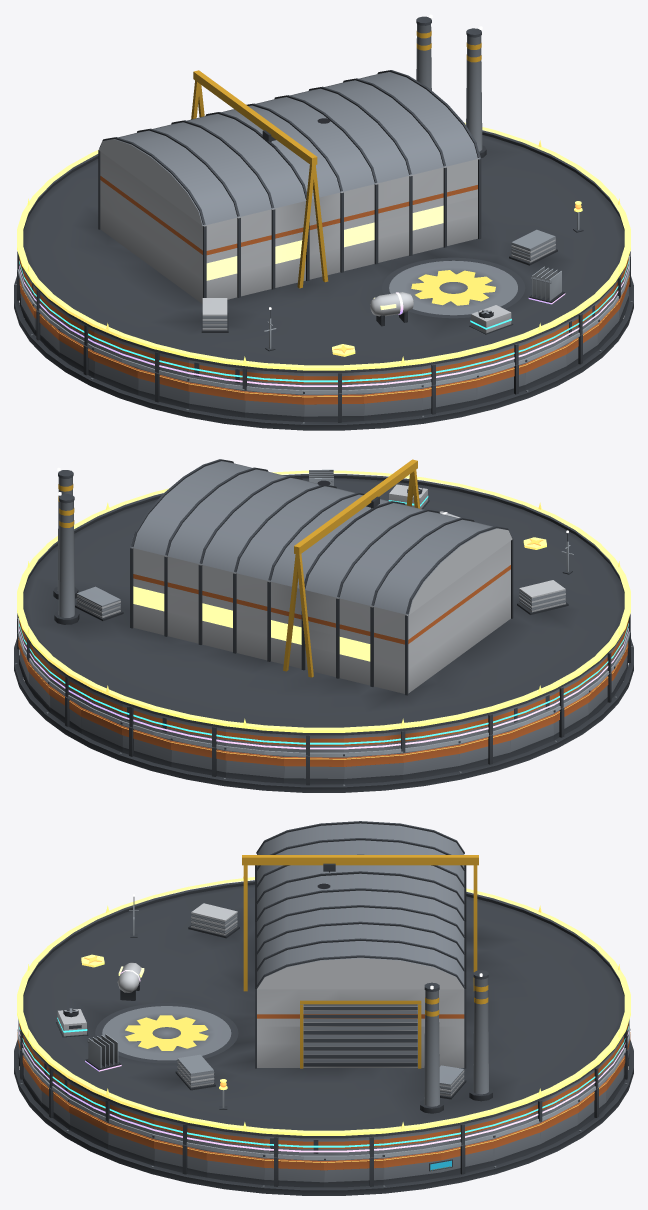
File: fabricator_xl.glb
3 renders of one model, top to bottom at view 1: azimuth 30°, elevation 25°; view 2: azimuth 150°, elevation 25°; view 3: azimuth 270°, elevation 25°, orthographic.
Parts seen in each view (by area): view 1: Roof, Base, L4, Wall_21, Wall_20, Wall_22, Wall_19, Wall_23, Wall_18, Wall_24, Wall_17, Wall_25 (+14 smaller); view 2: Roof, Base, Wall_10, Wall_11, Wall_09, Wall_12, Wall_08, Wall_13, Wall_07, Wall_14, Wall_06, Wall_15 (+17 smaller); view 3: Roof, Base, L4, Wall_00, Wall_31, Wall_30, Wall_01, Wall_29, Wall_02, Wall_28, Wall_03, Wall_04 (+14 smaller).
Boxes of the visible parts, x1,y1,x2,y2 form: Roof: (23,14,624,372); Base: (14,276,633,430); L4: (370,266,565,326); Wall_21: (304,393,363,422); Wall_20: (244,389,303,421); Wall_22: (364,388,422,420); Wall_19: (188,381,244,417); Wall_23: (422,377,476,415); Wall_18: (137,368,188,408); Wall_24: (476,363,525,404); Wall_17: (93,351,138,395); Wall_25: (525,344,566,389); Roof: (23,459,624,735); Base: (14,639,633,792); Wall_10: (284,755,343,785); Wall_11: (344,752,403,784); Wall_09: (225,750,283,783); Wall_12: (403,744,459,779); Wall_08: (170,738,225,777); Wall_13: (459,730,510,771); Wall_07: (122,725,171,766); Wall_14: (509,713,554,757); Wall_06: (81,707,122,752); Wall_15: (553,693,589,740); Roof: (23,821,624,1138); Base: (14,1040,633,1195); L4: (85,962,144,1071); Wall_00: (324,1157,383,1187); Wall_31: (264,1157,323,1187); Wall_30: (206,1150,264,1184); Wall_01: (383,1150,441,1184); Wall_29: (153,1138,207,1177); Wall_02: (440,1138,494,1177); Wall_28: (107,1121,154,1165); Wall_03: (493,1122,540,1165); Wall_04: (540,1103,578,1149).
Size of the model in its own units: 25.25 by 8.27 by 25.25.
